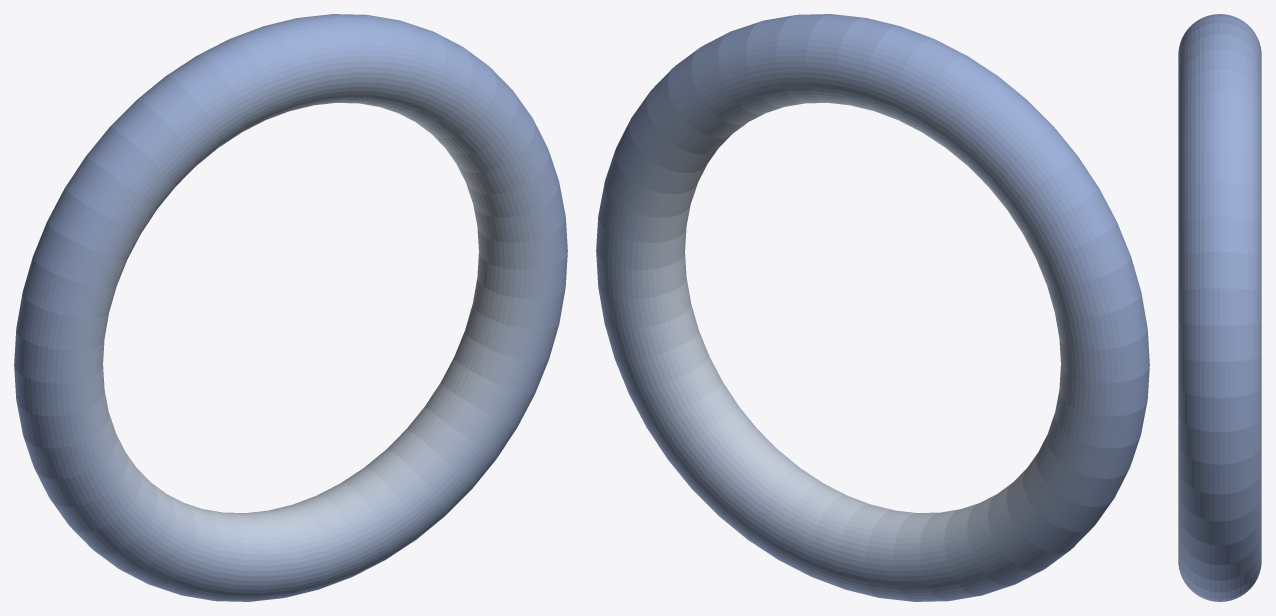
3 renders of one model, left to right at view 1: azimuth 30°, elevation 25°; view 2: azimuth 150°, elevation 25°; view 3: azimuth 270°, elevation 25°, orthographic. The views are drawn at different scales.
Parts seen in each view (by area): view 1: world; view 2: world; view 3: world.
Part boxes in pixels (left/top/right/bottom): world: left=14, top=14, right=567, bottom=601; world: left=596, top=14, right=1149, bottom=601; world: left=1178, top=14, right=1261, bottom=601.
Size of the model in its own units: 27.2 by 27.15 by 3.86.
